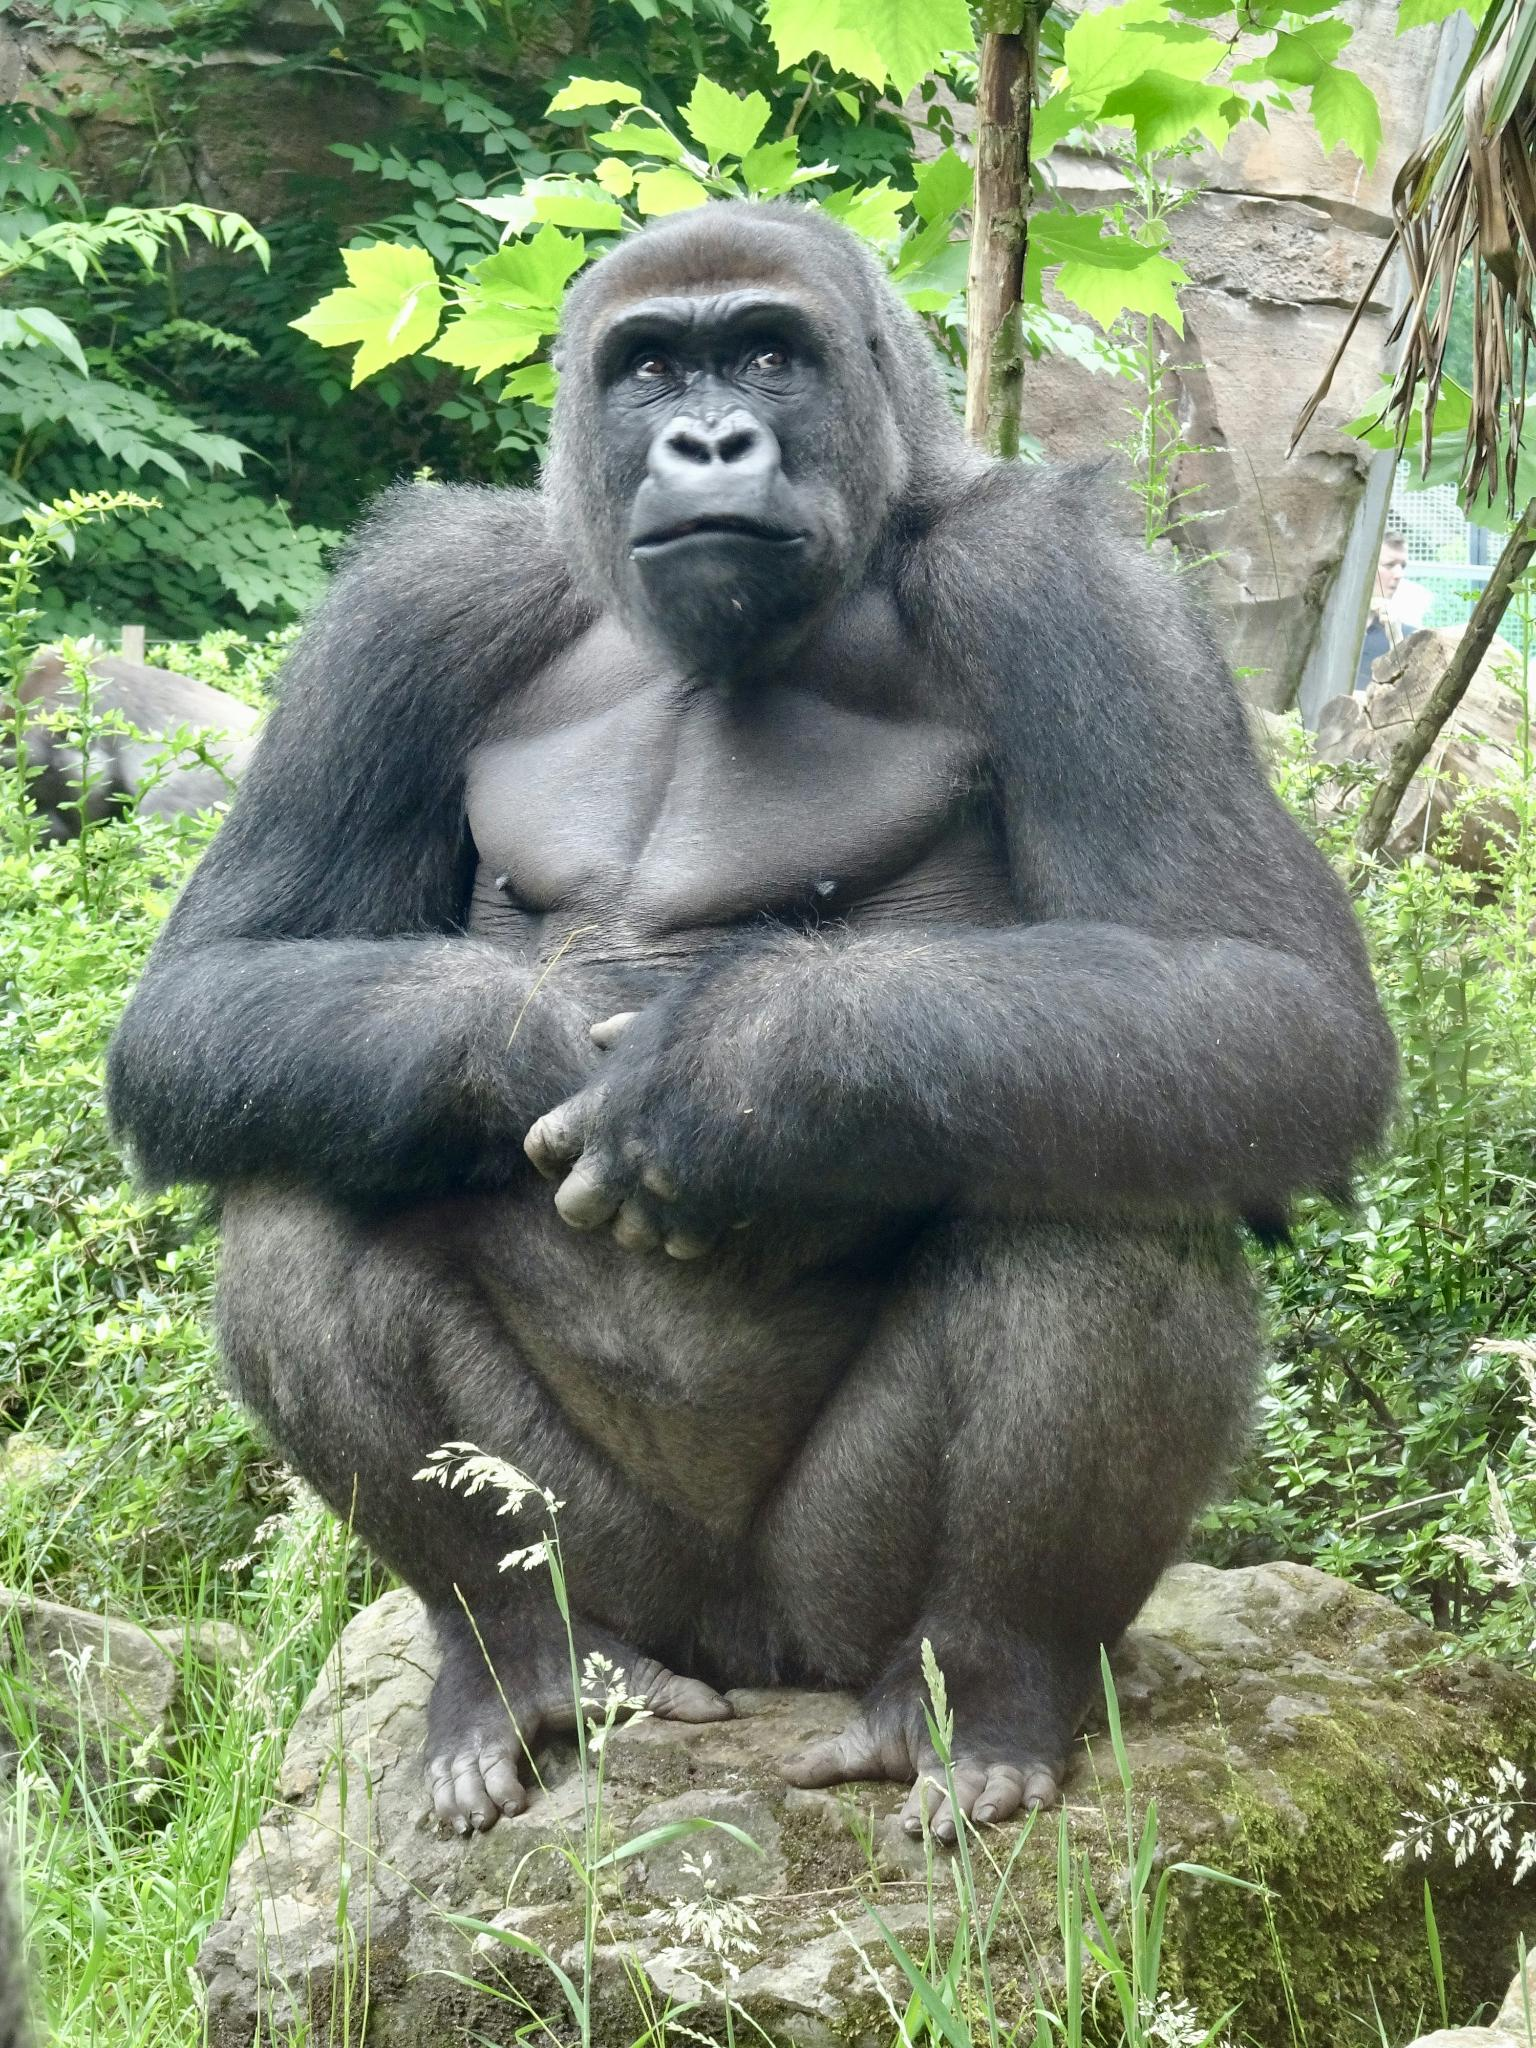gorille_Autres: (97, 160, 1439, 1874)
